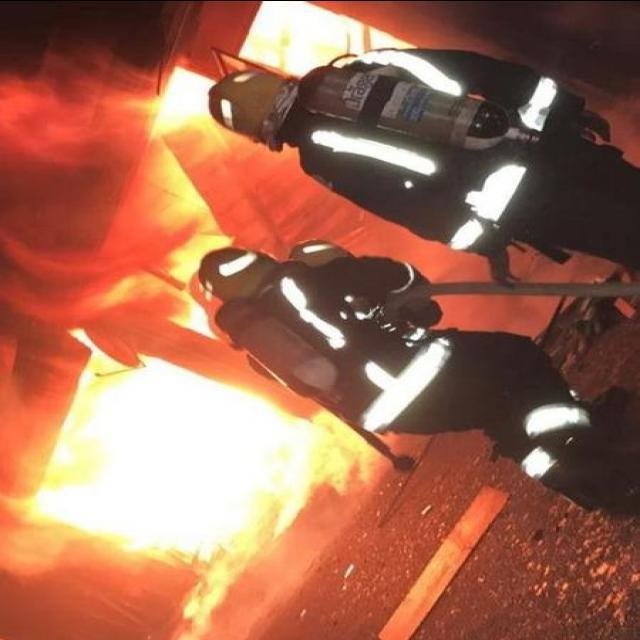Fire: (28, 1, 448, 606)
